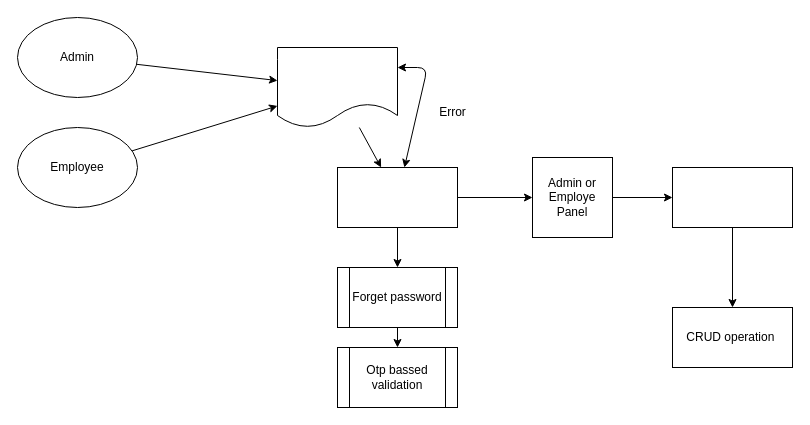
Some shapes in this 810 by 425 pixel diagram are drawn without their labels. Here are the shapes that lost their labels. From the top down, the box of each, then its label:
(276, 46, 398, 128): Domain
(336, 166, 458, 228): Login
(672, 166, 792, 228): Profile Page
